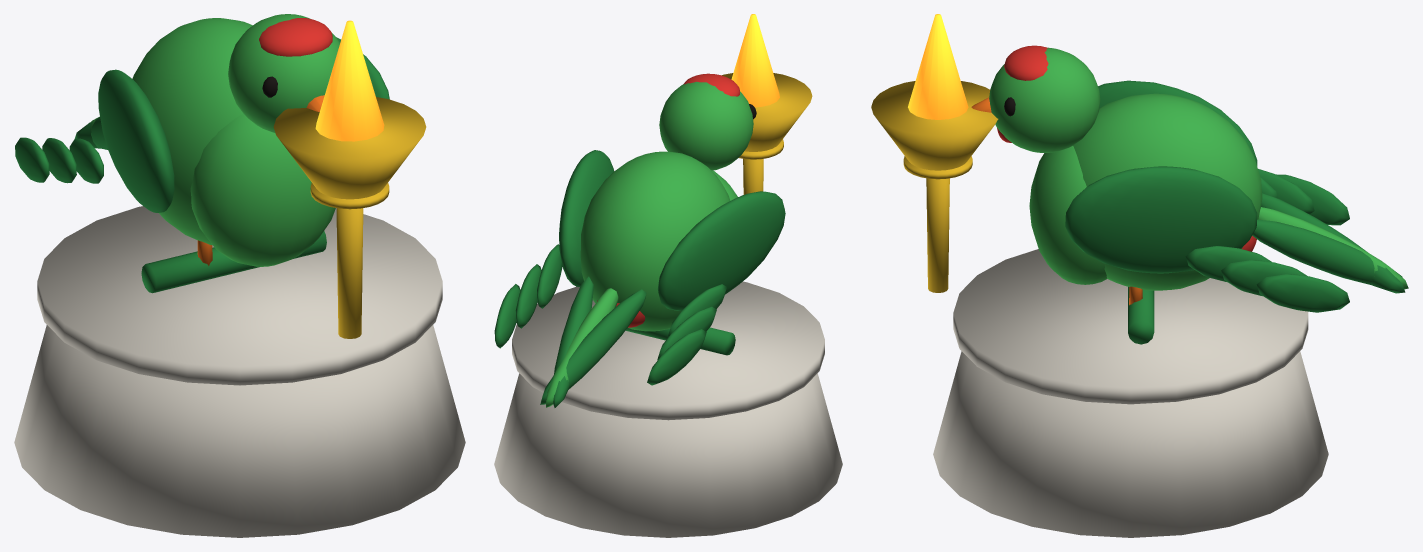
Rendered from serindit.glb.
3 renders of one model, left to right at view 1: azimuth 30°, elevation 25°; view 2: azimuth 150°, elevation 25°; view 3: azimuth 270°, elevation 25°, orthographic. The views are drawn at different scales.
Visible parts, largest first — view 1: EX_SR_Beton, EX_SR_Hijau, EX_SR_HijauGelap, EX_SR_Emas, EX_SR_Api, EX_SR_Merah; view 2: EX_SR_Beton, EX_SR_HijauGelap, EX_SR_Hijau, EX_SR_Emas, EX_SR_Api, EX_SR_Merah; view 3: EX_SR_Beton, EX_SR_HijauGelap, EX_SR_Hijau, EX_SR_Emas, EX_SR_Api, EX_SR_Merah.
Part boxes in pixels (x1,y1,x2,y2): EX_SR_Beton: (14,206,465,537); EX_SR_Hijau: (90,14,339,266); EX_SR_HijauGelap: (15,37,389,293); EX_SR_Emas: (273,97,426,338); EX_SR_Api: (315,20,384,141); EX_SR_Merah: (259,18,332,56); EX_SR_Beton: (494,281,842,537); EX_SR_HijauGelap: (494,150,785,407); EX_SR_Hijau: (546,81,753,407); EX_SR_Emas: (722,73,812,194); EX_SR_Api: (731,14,779,107); EX_SR_Merah: (597,73,739,327); EX_SR_Beton: (933,249,1328,537); EX_SR_HijauGelap: (1065,80,1405,344); EX_SR_Hijau: (989,47,1408,290); EX_SR_Emas: (871,81,998,292); EX_SR_Api: (908,14,968,119); EX_SR_Merah: (997,45,1256,251).
Bounding box in the file's own units: 3.9 × 4.77 × 5.3.
